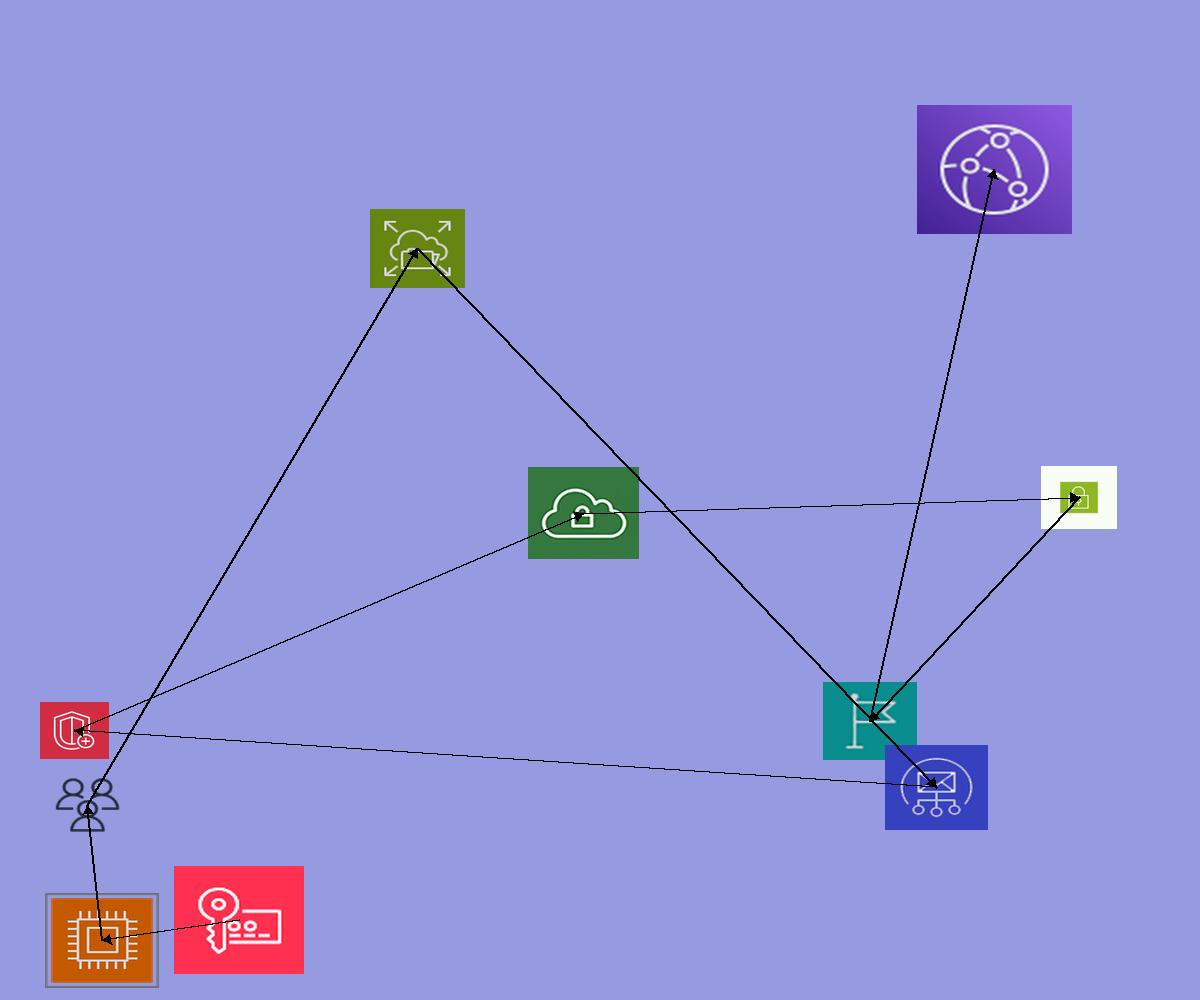AWS-Category_Compute: (45, 893, 159, 988)
AWS-CloudFront: (917, 105, 1072, 234)
AWS-EFS: (370, 209, 465, 288)
AWS-Key-Management-Service: (174, 866, 304, 974)
AWS-Private_vpc: (528, 467, 639, 559)
AWS-Public-subnet: (1041, 466, 1117, 529)
AWS-Region: (823, 682, 917, 760)
AWS-Res_Users: (53, 776, 122, 834)
AWS-Shield: (40, 702, 109, 759)
AWS-Simple-Email-Service: (885, 745, 988, 830)
